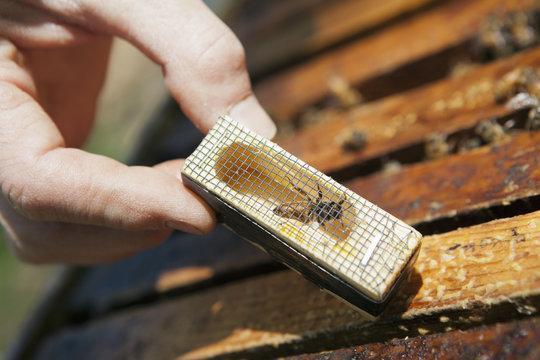Queen-Bee: (263, 152, 356, 273)
